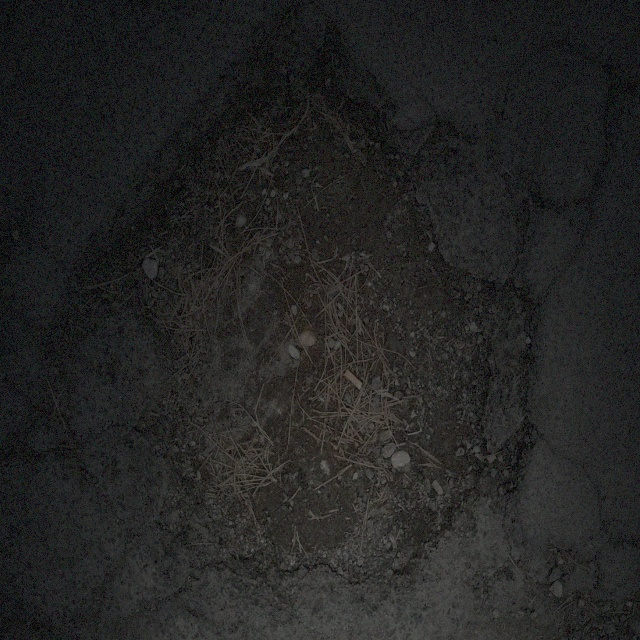pothole: (80, 25, 550, 584)
